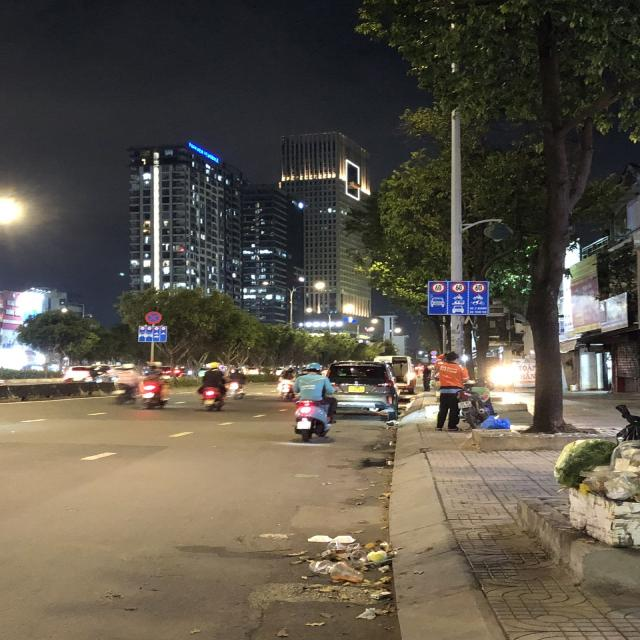Bien bao cam dung xe va do xe: (142, 308, 164, 326)
Bien bao toc do toi da cho phep: (449, 281, 466, 295), (469, 281, 487, 294), (431, 281, 447, 295)
